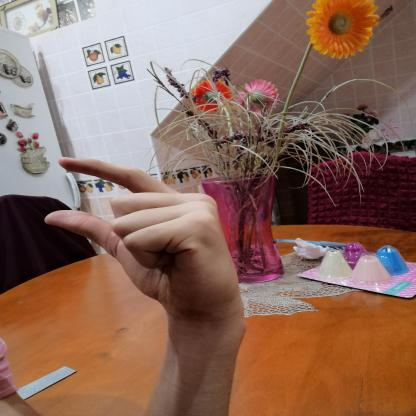DELL: (29, 150, 255, 323)
